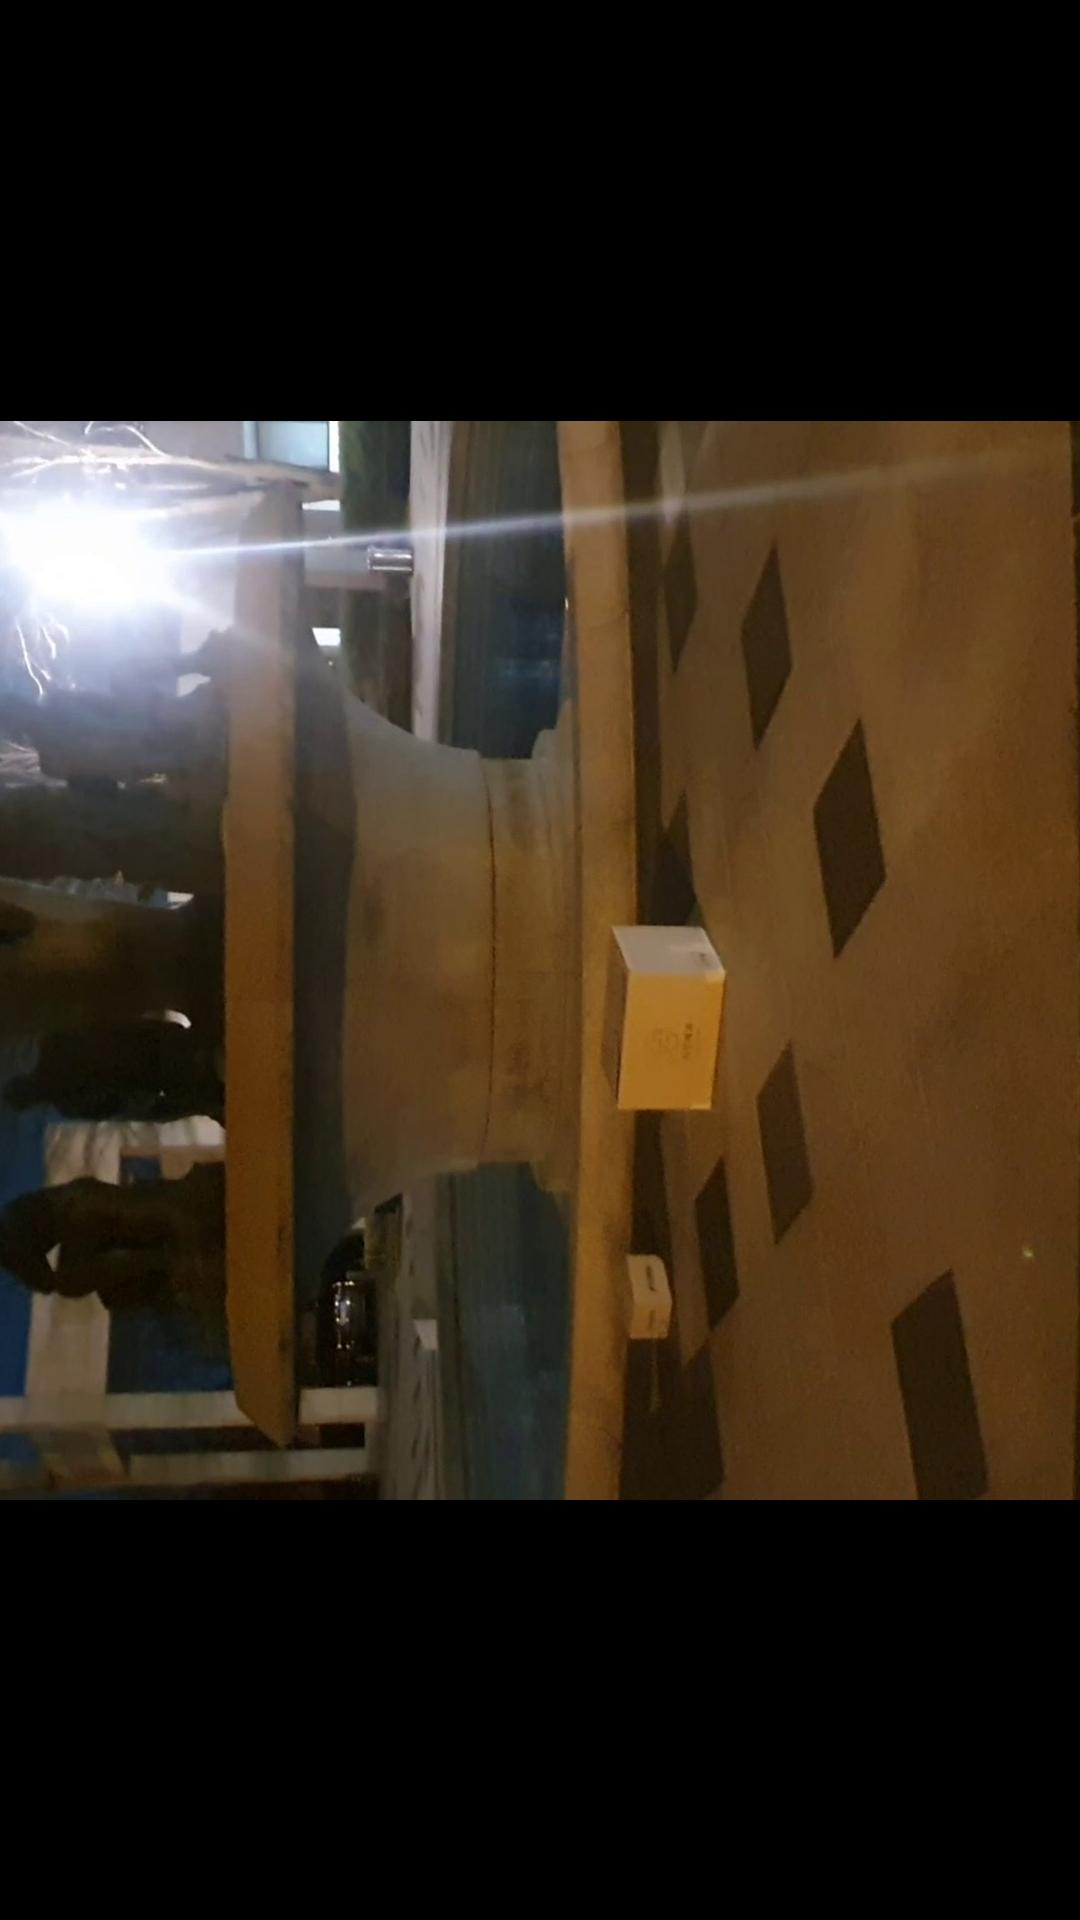Box: (588, 920, 731, 1120), (600, 1242, 692, 1349)
